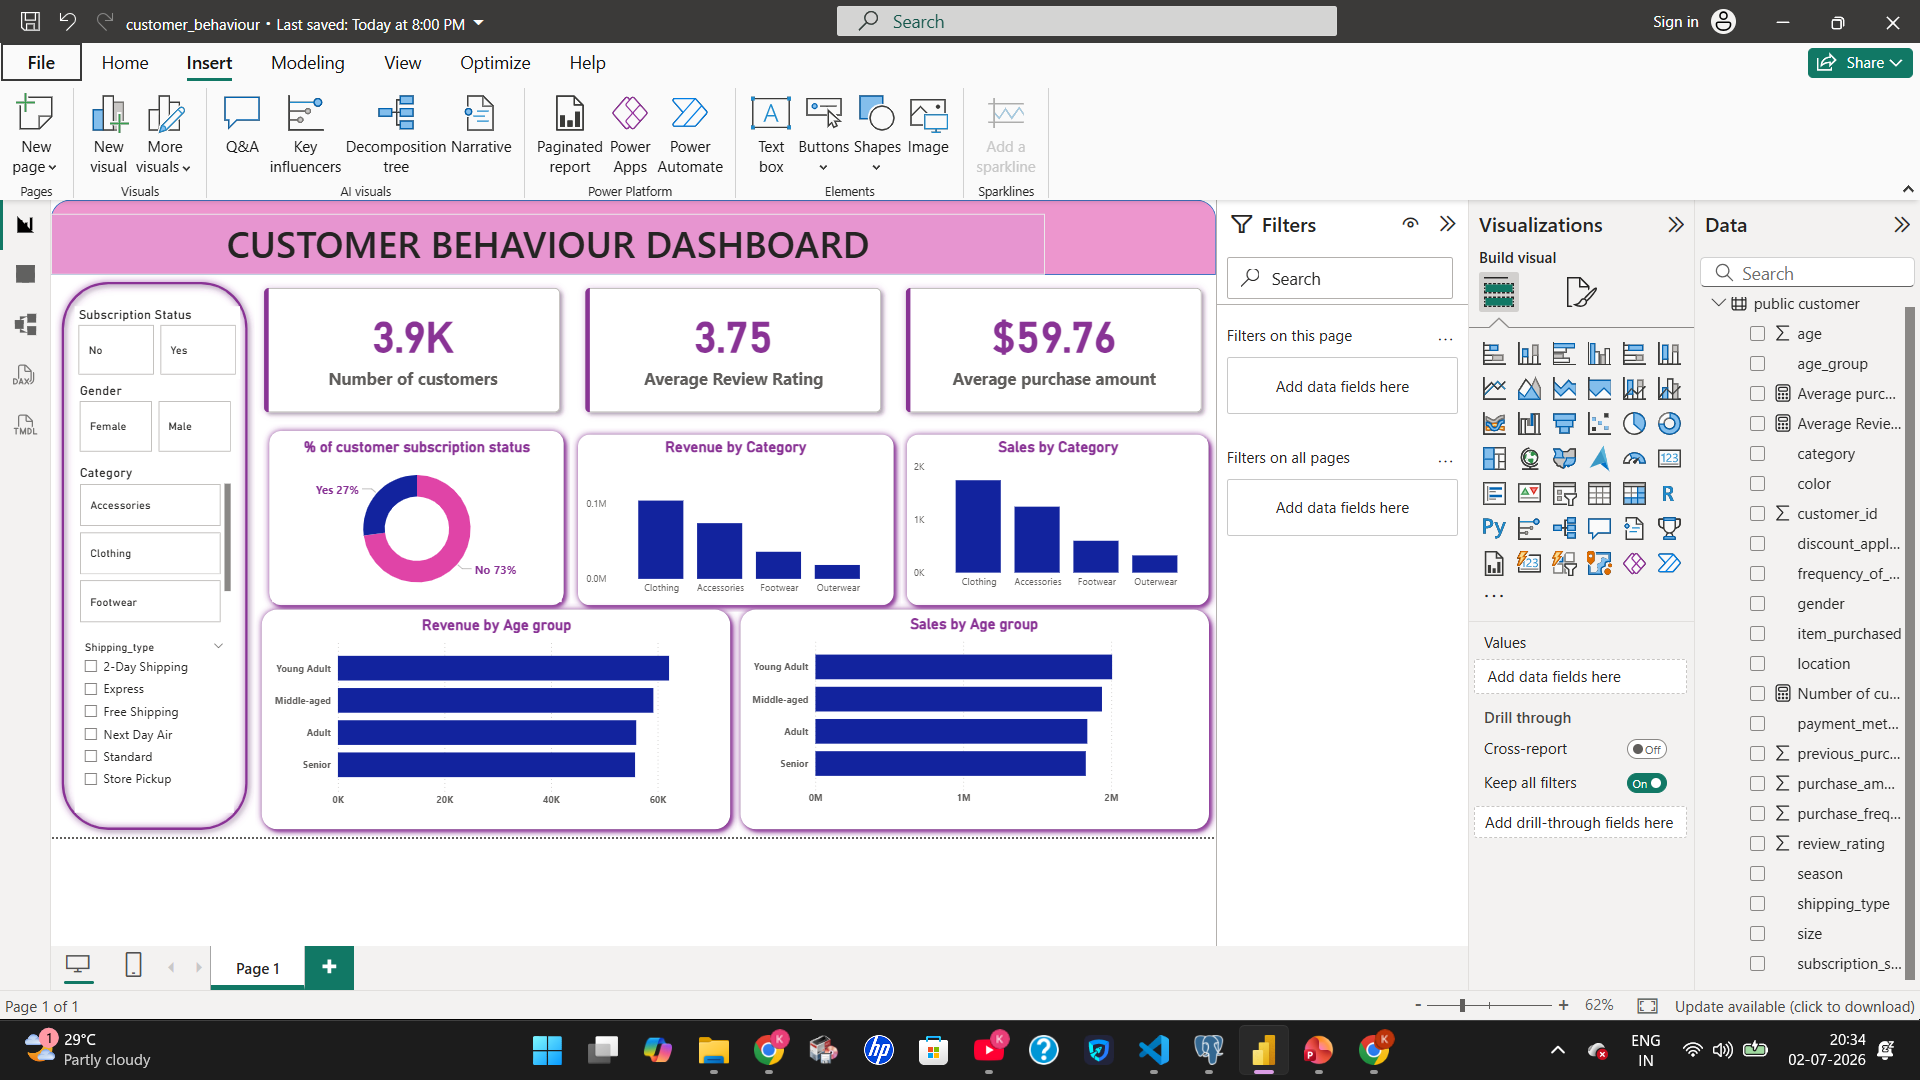

The dashboard page shown, as its layout file describes it:
{"tool":"powerbi","page":{"name":"Page 1","canvas":[1500,820],"ordinal":0},"visuals":[{"type":"cardVisual","fields":{"Data":["public customer.Number of customers","public customer.Average Review Rating","public customer.Average purchase amount"]},"box":[257.3,96.5,1243,194.6],"z":0},{"type":"shape","box":[0,0,1500.3,96.5],"z":1},{"type":"textbox","box":[0,17.8,1280.3,78.2],"z":2},{"type":"shape","box":[271.8,287.8,397.2,242.8],"z":3},{"type":"donutChart","title":"% of customer subscription status ","fields":{"Category":["public customer.subscription_status"],"Y":["CountNonNull(public customer.customer_id)"]},"box":[284.6,307.1,373.1,210.7],"z":4},{"type":"shape","box":[669,292.7,424.5,238],"z":5},{"type":"shape","box":[1093.5,292.7,406.8,238],"z":6},{"type":"clusteredColumnChart","title":"Revenue by Category ","fields":{"Y":["Sum(public customer.purchase_amount)"],"Category":["public customer.category"]},"box":[683.4,307.1,395.6,210.7],"z":7},{"type":"clusteredColumnChart","title":"Sales by Category ","fields":{"Y":["CountNonNull(public customer.customer_id)"],"Category":["public customer.category"]},"box":[1106.4,307.1,382.7,202.6],"z":8},{"type":"shape","box":[4.8,96.5,257.3,723.6],"z":9},{"type":"slicer","fields":{"Values":["public customer.shipping_type"]},"box":[30.6,561.8,204.4,227],"z":14},{"type":"advancedSlicerVisual","fields":{"Values":["public customer.subscription_status"]},"box":[30.6,136.8,212.5,93.4],"z":15},{"type":"advancedSlicerVisual","fields":{"Values":["public customer.gender"]},"box":[32.2,235,204.4,95],"z":16},{"type":"advancedSlicerVisual","fields":{"Values":["public customer.category"]},"box":[32.2,341.3,204.4,207.7],"z":17},{"type":"shape","box":[878.9,518.4,621.4,301],"z":20},{"type":"clusteredBarChart","title":"Sales by Age group","fields":{"Y":["Sum(public customer.customer_id)"],"Category":["public customer.age_group"]},"box":[896.7,534.5,584.4,254.3],"z":21},{"type":"shape","box":[262.4,518.4,621.4,301],"z":22},{"type":"clusteredBarChart","title":"Revenue by Age group","fields":{"Y":["Sum(public customer.purchase_amount)"],"Category":["public customer.age_group"]},"box":[281.7,536.1,584.4,254.3],"z":23}]}

Visuals, with their boxes on the page's 1500x820 design canvas (x1, y1, x2, y2). These are canvas units, not pixel positions in the 1920x1080 screenshot, which may show the page scaled, cropped or inside an application window:
cardVisual - public customer.Number of customers x public customer.Average Review Rating: [257,96,1500,291]
shape: [0,0,1500,96]
textbox: [0,18,1280,96]
shape: [272,288,669,531]
"% of customer subscription status " donutChart: [285,307,658,518]
shape: [669,293,1094,531]
shape: [1094,293,1500,531]
"Revenue by Category " clusteredColumnChart: [683,307,1079,518]
"Sales by Category " clusteredColumnChart: [1106,307,1489,510]
shape: [5,96,262,820]
slicer - public customer.shipping_type: [31,562,235,789]
advancedSlicerVisual - public customer.subscription_status: [31,137,243,230]
advancedSlicerVisual - public customer.gender: [32,235,237,330]
advancedSlicerVisual - public customer.category: [32,341,237,549]
shape: [879,518,1500,819]
"Sales by Age group" clusteredBarChart: [897,534,1481,789]
shape: [262,518,884,819]
"Revenue by Age group" clusteredBarChart: [282,536,866,790]
